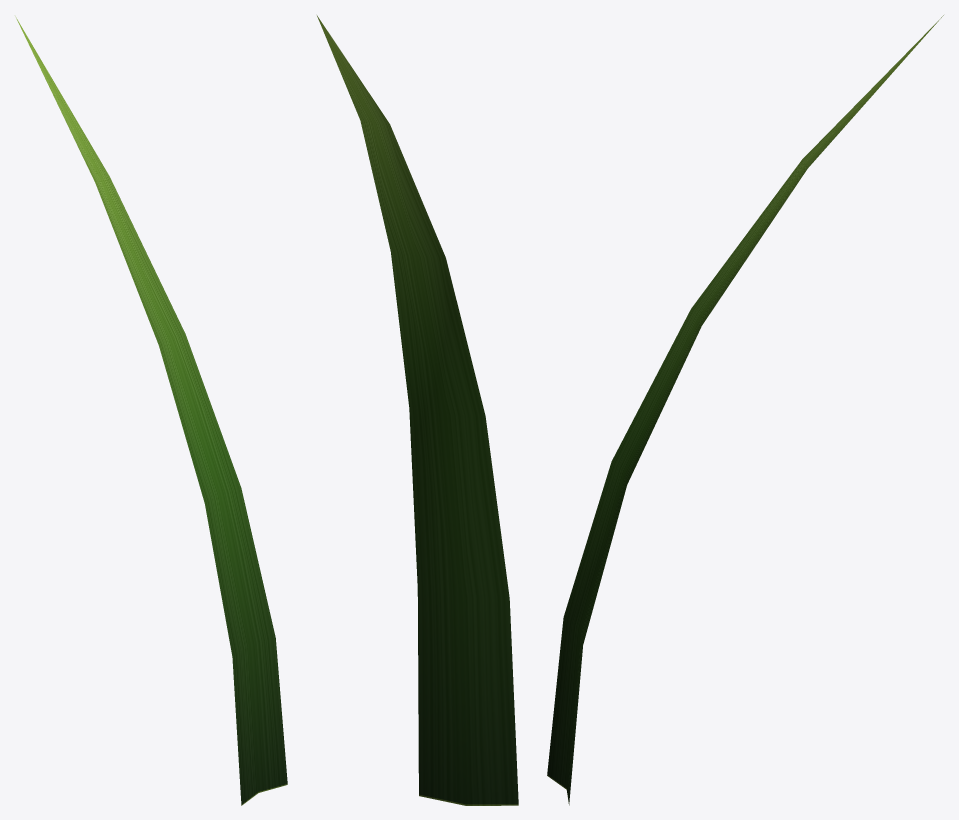
Rendered from Grass_Blade_Tall.fbx.
The picture shows the model from 3 angles, left to right: view 1: azimuth 30°, elevation 25°; view 2: azimuth 150°, elevation 25°; view 3: azimuth 270°, elevation 25°; orthographic projection. The views are drawn at different scales.
Visible parts, largest first — view 1: Grass_Blade_Tall; view 2: Grass_Blade_Tall; view 3: Grass_Blade_Tall.
Boxes of the visible parts, x1,y1,x2,y2 form: Grass_Blade_Tall: (15, 16, 287, 805); Grass_Blade_Tall: (317, 15, 518, 805); Grass_Blade_Tall: (547, 15, 943, 805).
Bounding box in the file's own units: 0.3826 × 2.39 × 1.17.
Materials: 1 (1 with a texture image).
